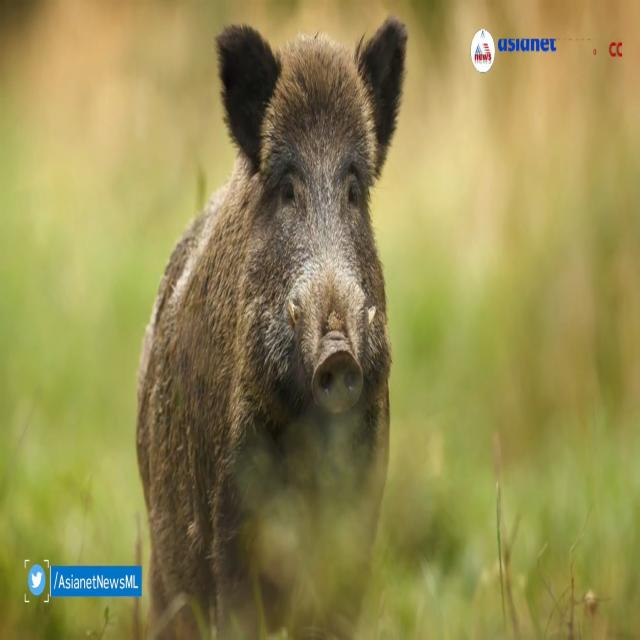WILD BOAR: (125, 33, 436, 533)
